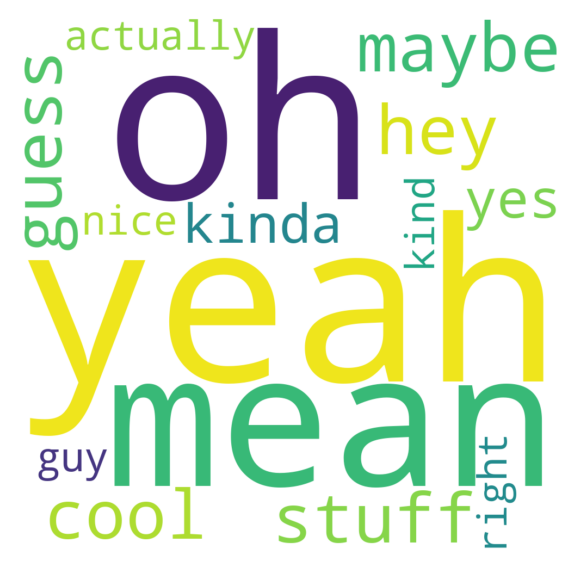

The page's visual inventory and layout, read from the dashboard file:
{"tool":"tableau","page":{"name":"Dashboard 1","canvas":[1000,800],"ordinal":0},"visuals":[{"type":"worksheet","title":"Topics","mark":"Automatic","box":[74,14,886,777]},{"type":"worksheet","title":"Topics","mark":"Automatic","param":"[federated.0f70d2m07pqro519ml5wd1i6v16a].[none:type:nk]","box":[10,18,72,40]}]}

Visuals, with their boxes on the page's 1000x800 design canvas (x1, y1, x2, y2). These are canvas units, not pixel positions in the 579x579 screenshot, which may show the page scaled, cropped or inside an application window:
"Topics" worksheet: <region>74, 14, 960, 791</region>
"Topics" worksheet: <region>10, 18, 82, 58</region>
